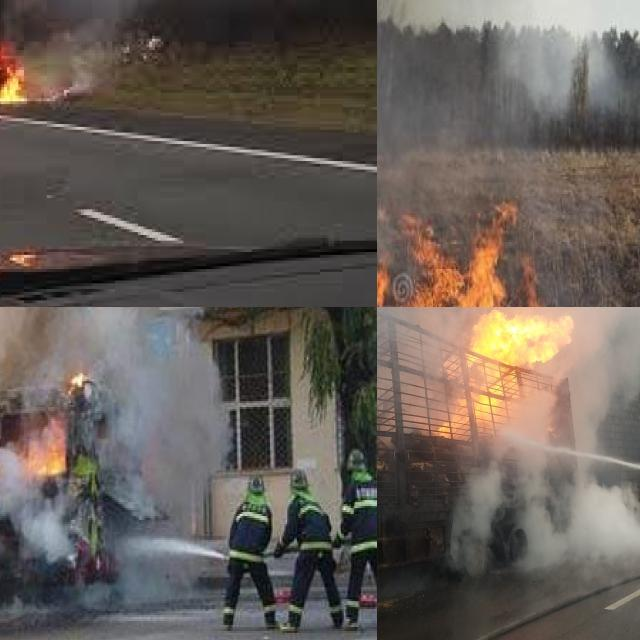fire: (377, 213, 640, 307), (0, 375, 102, 553), (438, 309, 574, 440), (0, 33, 41, 115)
smoke: (0, 307, 225, 621), (377, 307, 640, 428), (447, 430, 640, 578), (496, 19, 622, 119), (24, 21, 109, 96)
